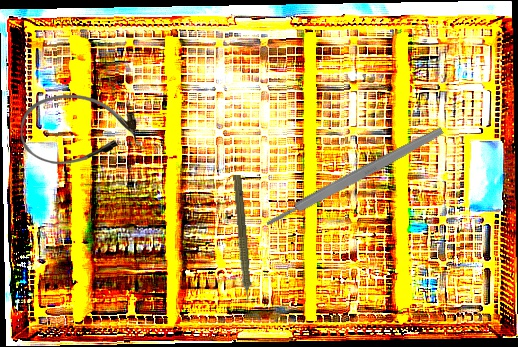Cannula: (21, 95, 136, 164)
Handpiece: (228, 174, 255, 311)
Scalpel Handle: (263, 124, 446, 230)
